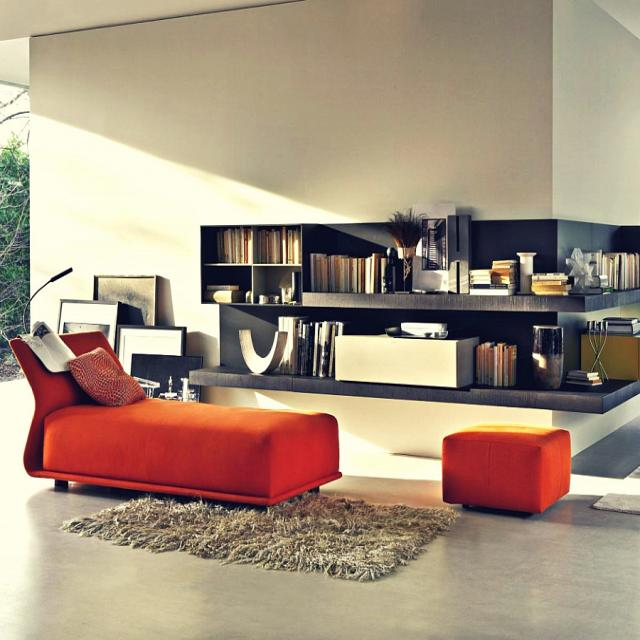a sofa: (15, 339, 358, 522), (442, 403, 592, 531)
